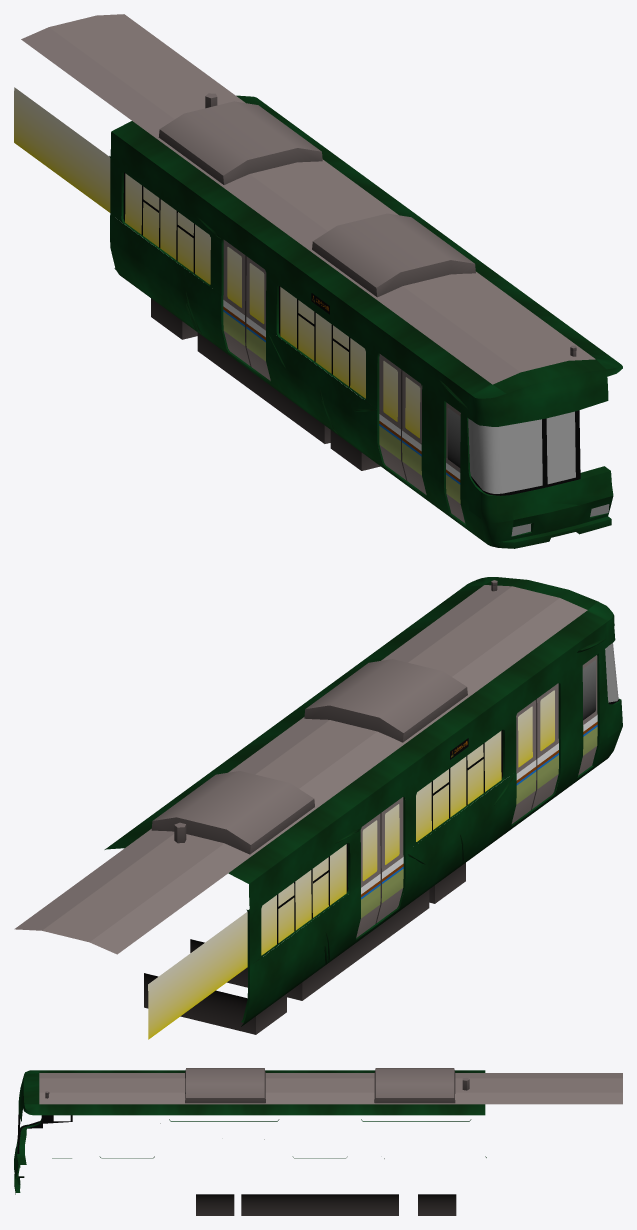
File: 223_LED.glb
3 renders of one model, top to bottom at view 1: azimuth 30°, elevation 25°; view 2: azimuth 150°, elevation 25°; view 3: azimuth 270°, elevation 25°, orthographic. The views are drawn at different scales.
Visible parts, largest first — view 1: mask; view 2: mask; view 3: mask.
Boxes of the visible parts, box(x1,y1,x2,y2) form: mask: box(14, 14, 622, 548); mask: box(14, 577, 622, 1039); mask: box(14, 1068, 622, 1215).
Size of the model in its own units: 6.73 by 8.64 by 38.69.
Materials: 11 (10 with a texture image).
